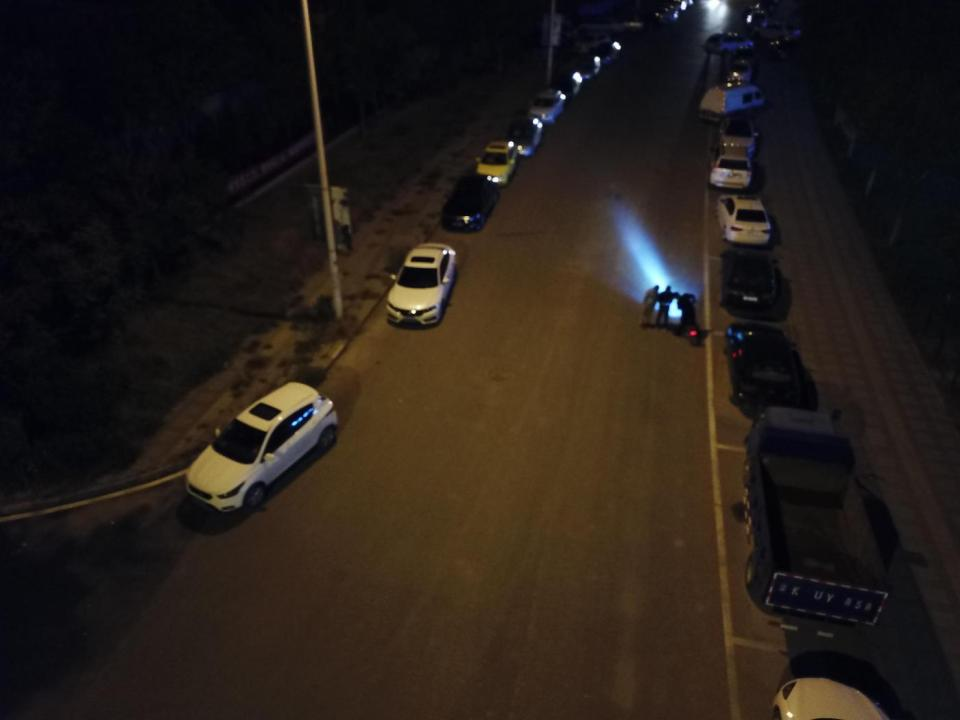car: (180, 382, 339, 515), (725, 318, 808, 412), (385, 241, 459, 328), (719, 245, 781, 309), (439, 173, 500, 234), (715, 193, 774, 248), (473, 137, 519, 185), (713, 114, 759, 155), (527, 87, 567, 124), (507, 113, 542, 154), (769, 34, 818, 60), (569, 49, 604, 84), (719, 56, 753, 89), (553, 69, 590, 97), (702, 35, 756, 54), (578, 15, 623, 35), (756, 20, 799, 40), (574, 31, 612, 53), (592, 39, 622, 64), (603, 12, 642, 30), (635, 10, 671, 26), (747, 10, 770, 28), (646, 10, 678, 22), (652, 5, 680, 18), (741, 2, 765, 17)
truck: (741, 408, 890, 628)
van: (698, 80, 768, 122), (705, 140, 753, 193)
